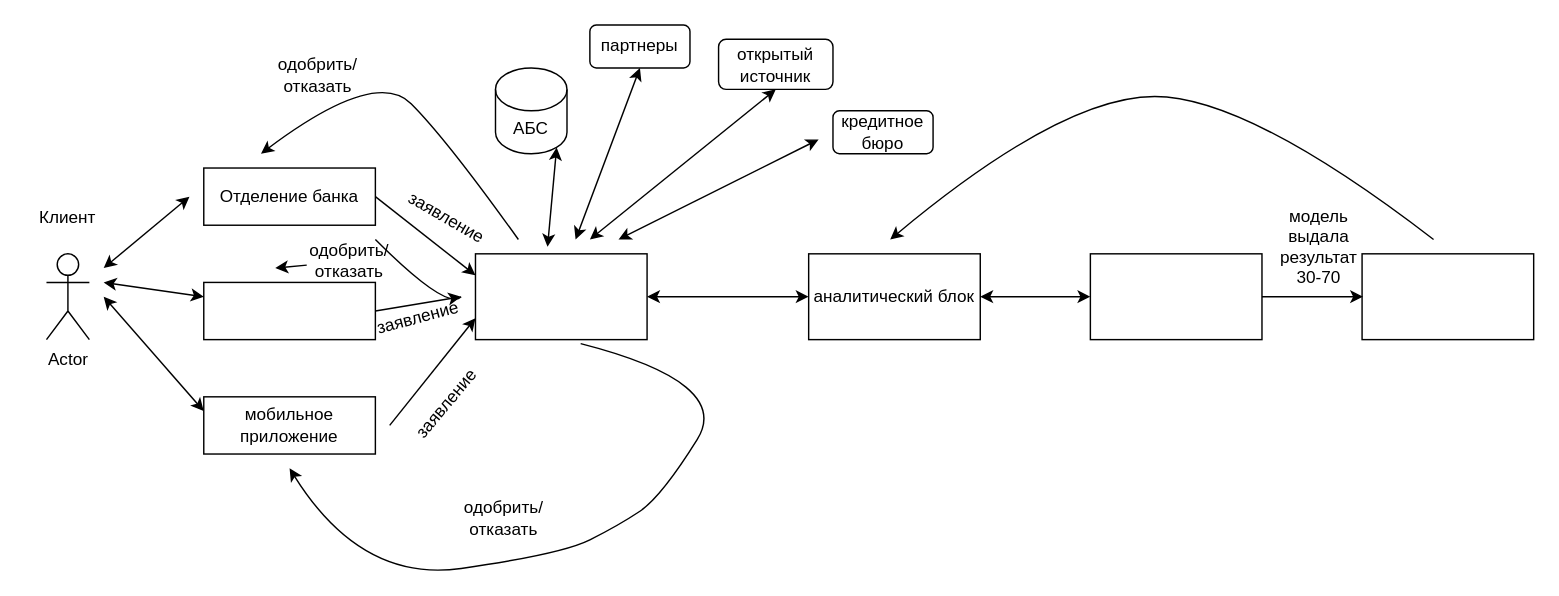
The diagram is 1559 pixels wide and 596 high, and some of its shapes have lost their labels. The shapes that lost their labels are listed below. From the top down, each one's box as (x1, y1, x2, y2) in pixels, then its label:
(202, 281, 375, 340): web-сайт
(474, 252, 647, 340): блок принятия решения
(1089, 252, 1262, 340): оценка рисков при помощи ML
(1361, 252, 1534, 340): ручная оценка рисков
